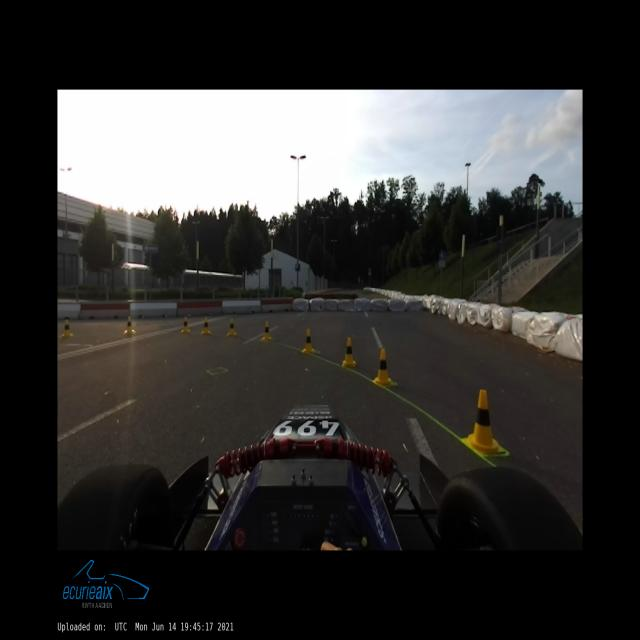yellow_cone: (463, 390, 505, 456), (373, 349, 394, 388), (342, 338, 357, 368), (302, 329, 315, 353), (125, 316, 136, 334), (62, 320, 73, 338), (262, 322, 272, 340), (181, 316, 190, 334), (202, 318, 211, 334), (228, 318, 236, 336)
